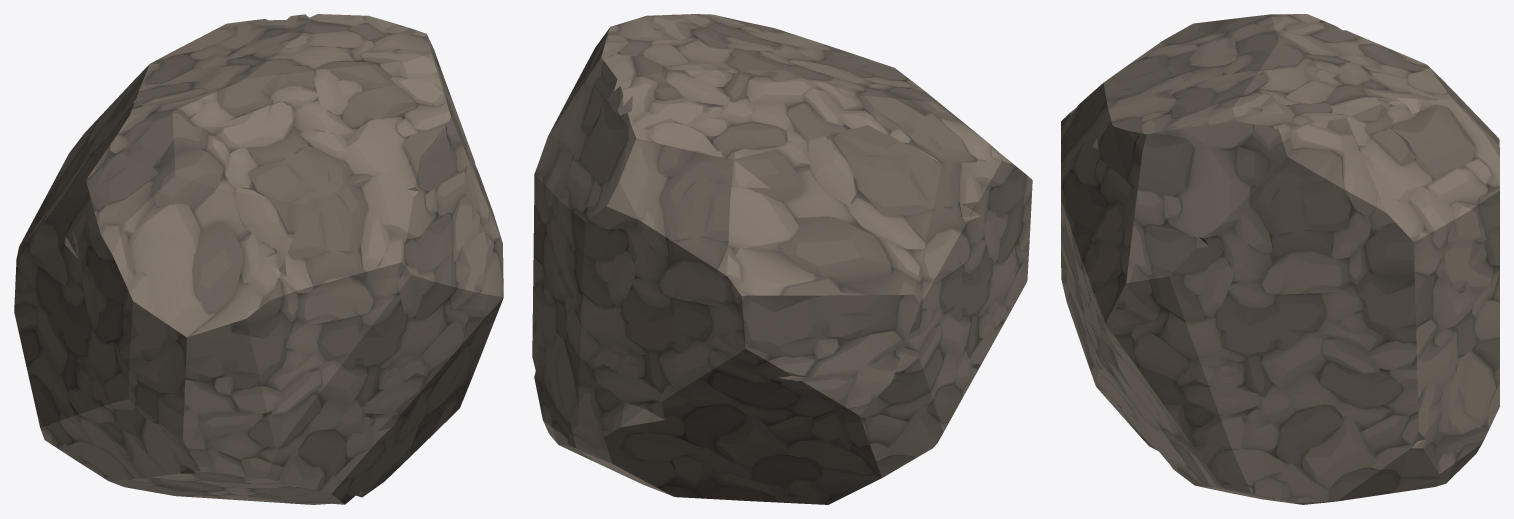
3 renders of one model, left to right at view 1: azimuth 30°, elevation 25°; view 2: azimuth 150°, elevation 25°; view 3: azimuth 270°, elevation 25°, orthographic. The views are drawn at different scales.
Visible parts, largest first — view 1: SM_Rock_Boulder_01; view 2: SM_Rock_Boulder_01; view 3: SM_Rock_Boulder_01.
Boxes of the visible parts, x1,y1,x2,y2 form: SM_Rock_Boulder_01: [14, 14, 503, 504]; SM_Rock_Boulder_01: [532, 14, 1032, 504]; SM_Rock_Boulder_01: [1061, 14, 1499, 504].
Bounding box in the file's own units: 2.67 × 2.67 × 2.67.
Materials: 1 (1 with a texture image).
